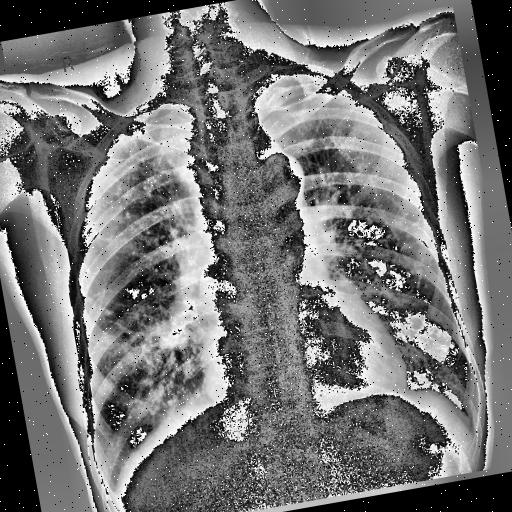0- Aortic enlargement: (246, 144, 310, 220), (248, 146, 310, 208), (255, 147, 306, 201)
13- Pulmonary fibrosis: (74, 121, 197, 252), (72, 122, 196, 245), (114, 322, 220, 422), (352, 184, 438, 298), (112, 131, 190, 236), (361, 194, 433, 286), (83, 282, 135, 318), (81, 284, 120, 301), (100, 306, 114, 316)
3- Cardiomegaly: (194, 301, 412, 441), (200, 322, 410, 426)
5- ILD: (85, 156, 229, 422), (306, 103, 438, 301)
6- Infiltration: (114, 322, 220, 422)
